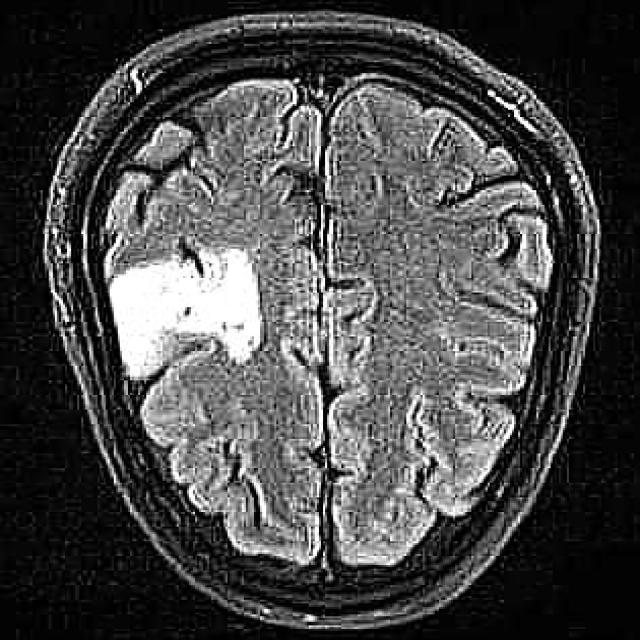Tumor-Cell: (105, 243, 272, 385)
